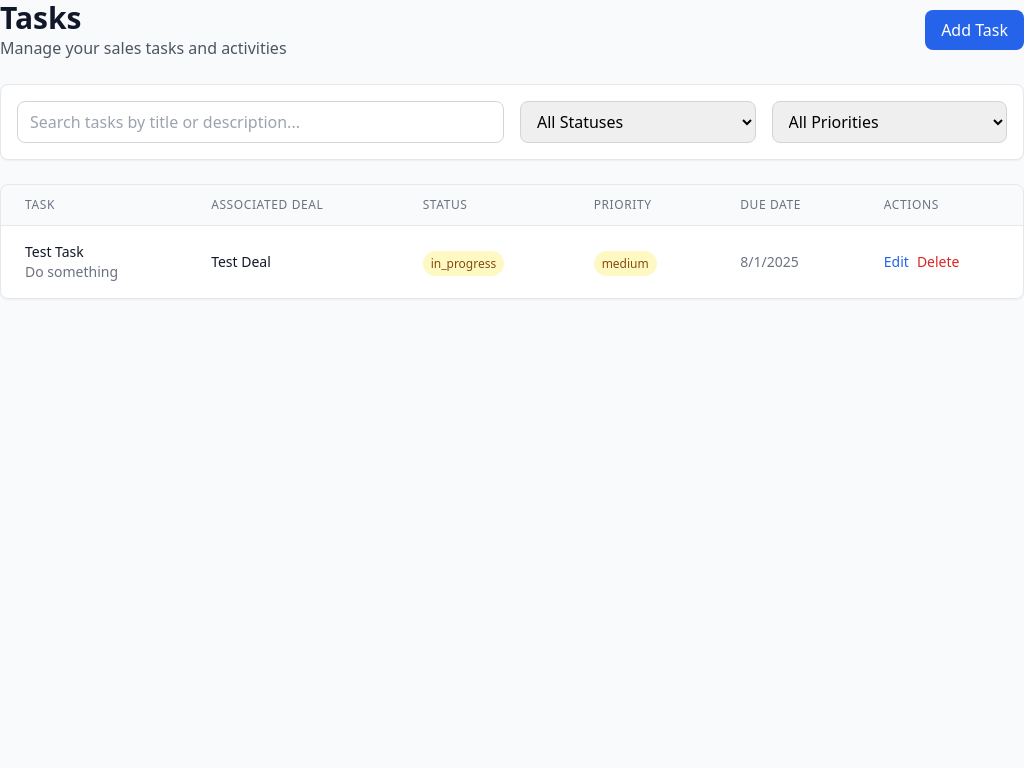
Test case: TasksPage › opens and closes the Add Task modal
The image size is (1024, 768).
Click the button "Add Task". click: (975, 30)
box: x1=925 y1=10 x2=1023 y2=50
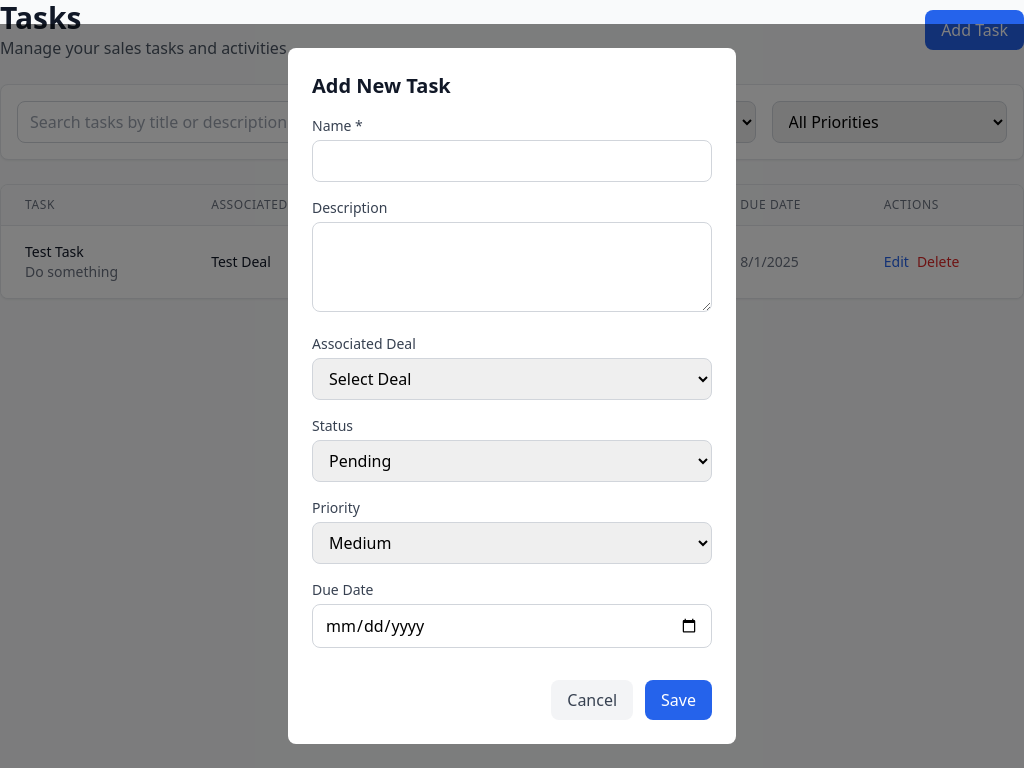
Expected: the heading "Add New Task" is shown, x1=312 y1=72 x2=451 y2=99
Click the button "Cancel". click: (592, 700)
box: x1=551 y1=680 x2=633 y2=720
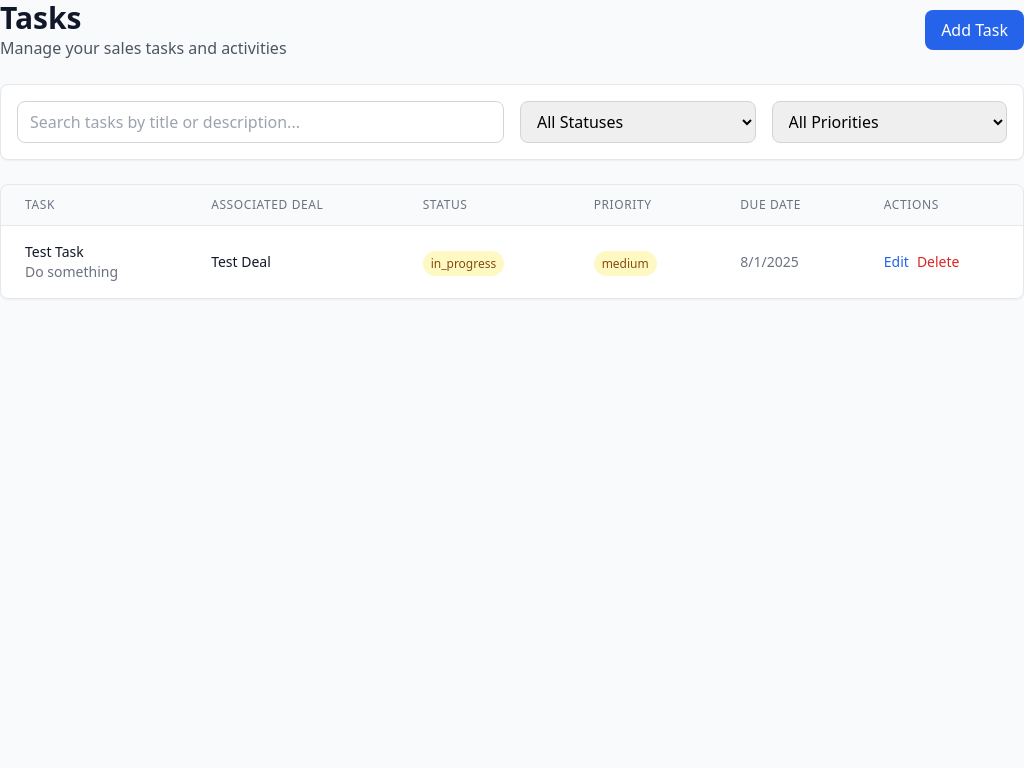
Expected: the heading "Add New Task" is gone
